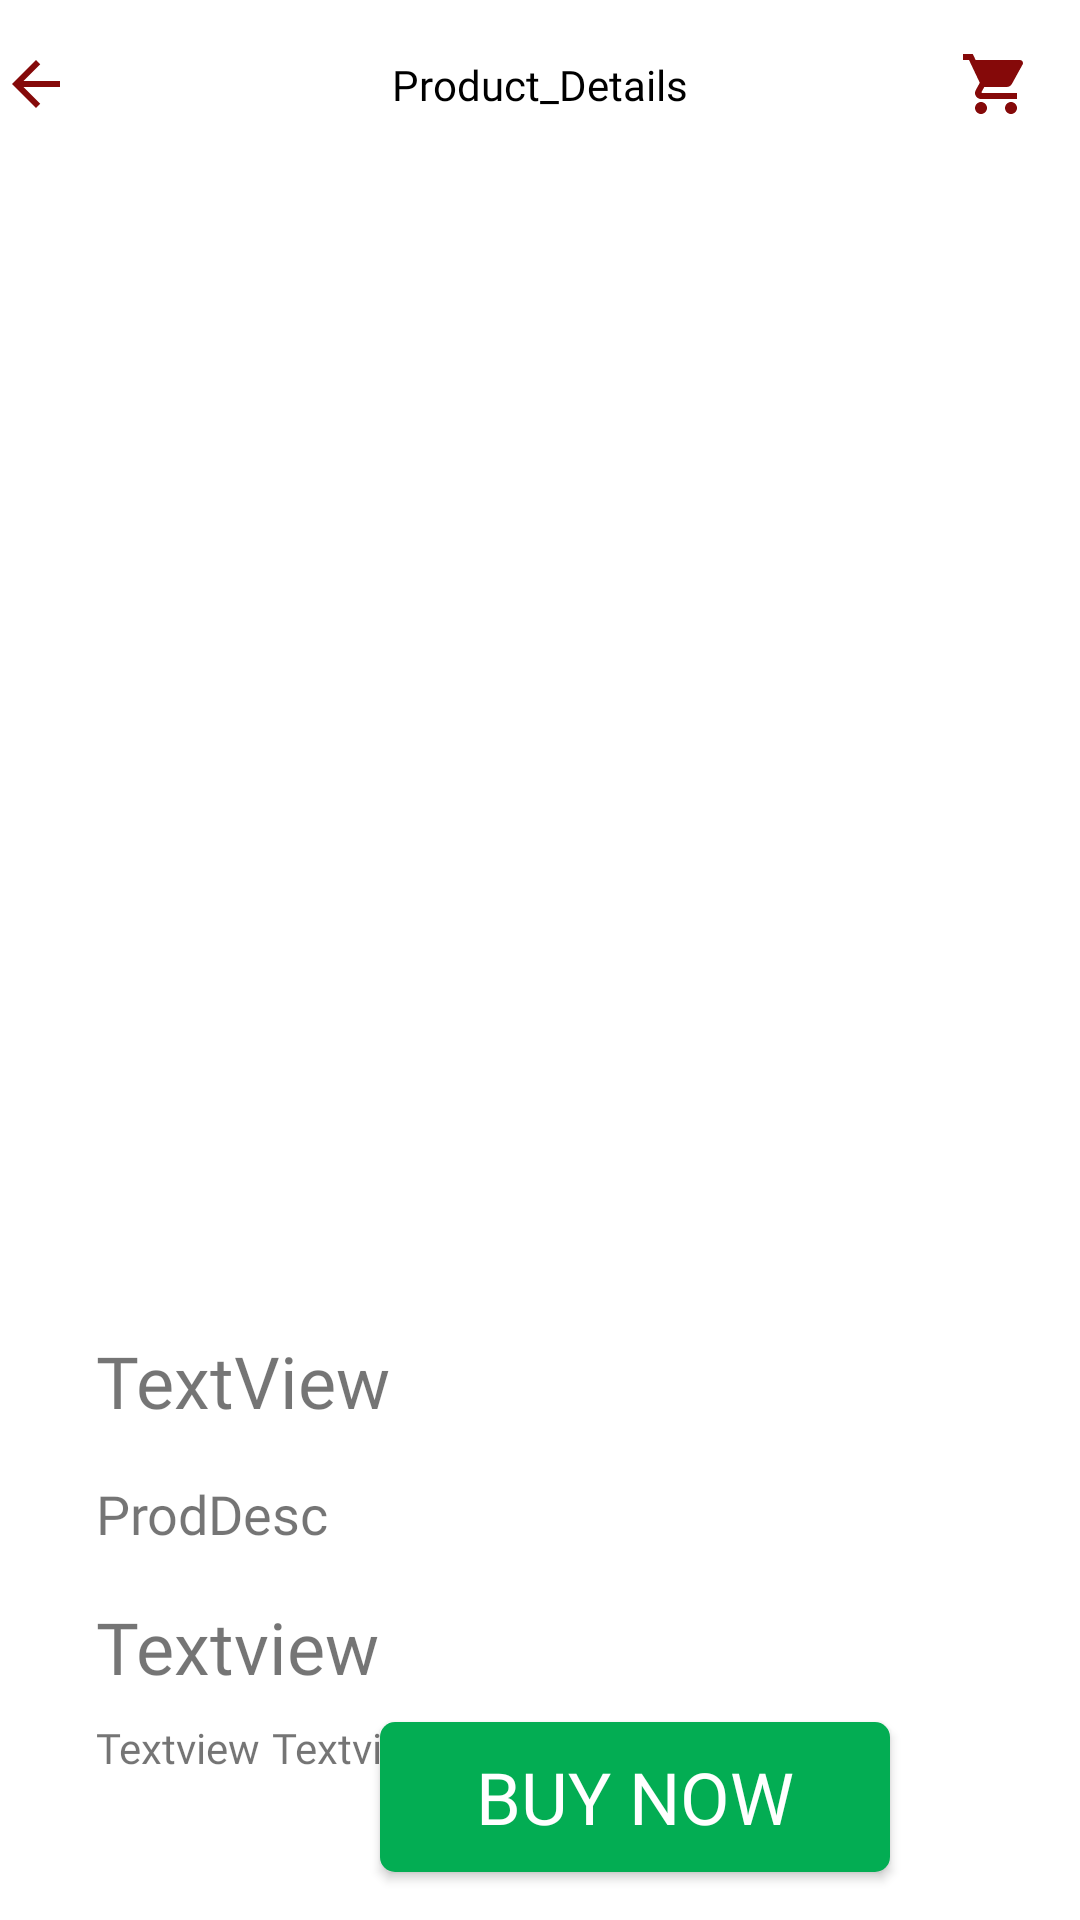

Named icons in this screenshot (1080*1920) and their bounding boxes, (x1, y1, x2, y2):
arrow back: (12, 60, 60, 108)
shopping cart: (963, 54, 1023, 114)
